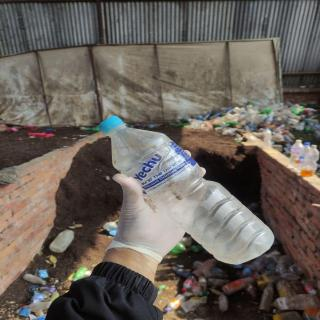Plastic-bottle: (96, 114, 279, 269)
